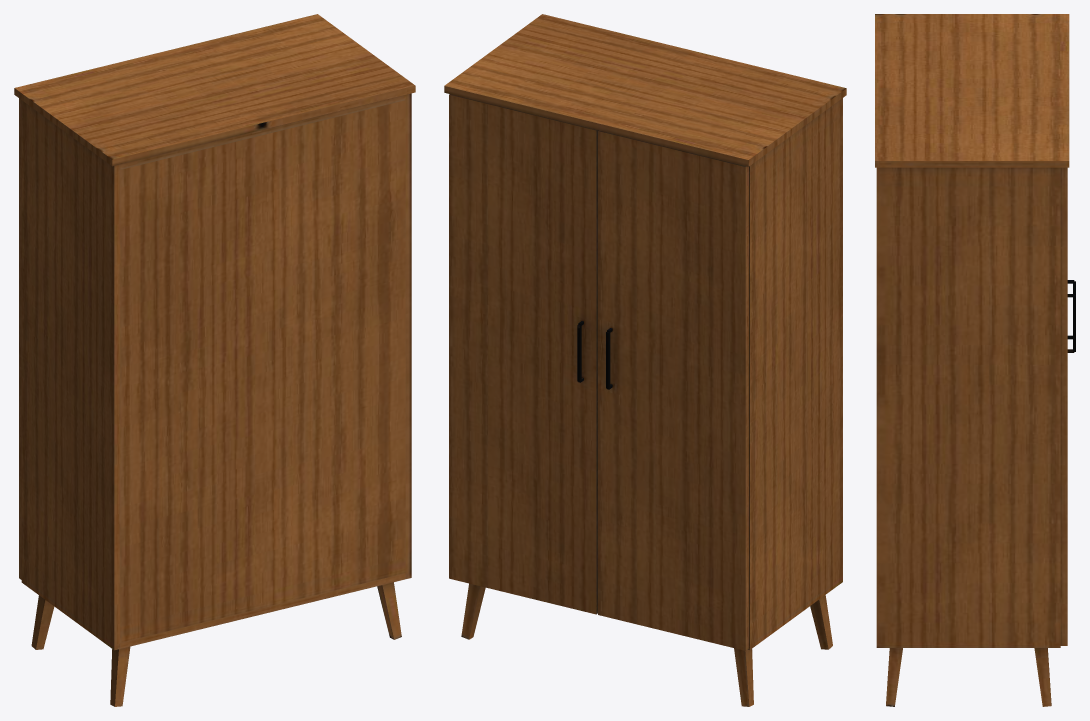
The model's file is wardrobe_legs_web.glb.
3 renders of one model, left to right at view 1: azimuth 30°, elevation 25°; view 2: azimuth 150°, elevation 25°; view 3: azimuth 270°, elevation 25°, orthographic.
Visible parts, largest first — view 1: WardrobeLegs_Body, Door_R_Mesh.001; view 2: WardrobeLegs_Body, Door_R_Mesh.001, Door_L_Mesh.001; view 3: WardrobeLegs_Body, Door_L_Mesh.001.
Boxes of the visible parts, box(x1,y1,x2,y2) form: WardrobeLegs_Body: box(14, 14, 415, 706); Door_R_Mesh.001: box(19, 98, 21, 579); WardrobeLegs_Body: box(444, 14, 846, 706); Door_R_Mesh.001: box(598, 130, 748, 650); Door_L_Mesh.001: box(449, 94, 598, 614); WardrobeLegs_Body: box(875, 14, 1069, 706); Door_L_Mesh.001: box(1060, 167, 1075, 645).
Size of the model in its own units: 1.02 by 1.79 by 0.5895.
1 material, 1 textured.
